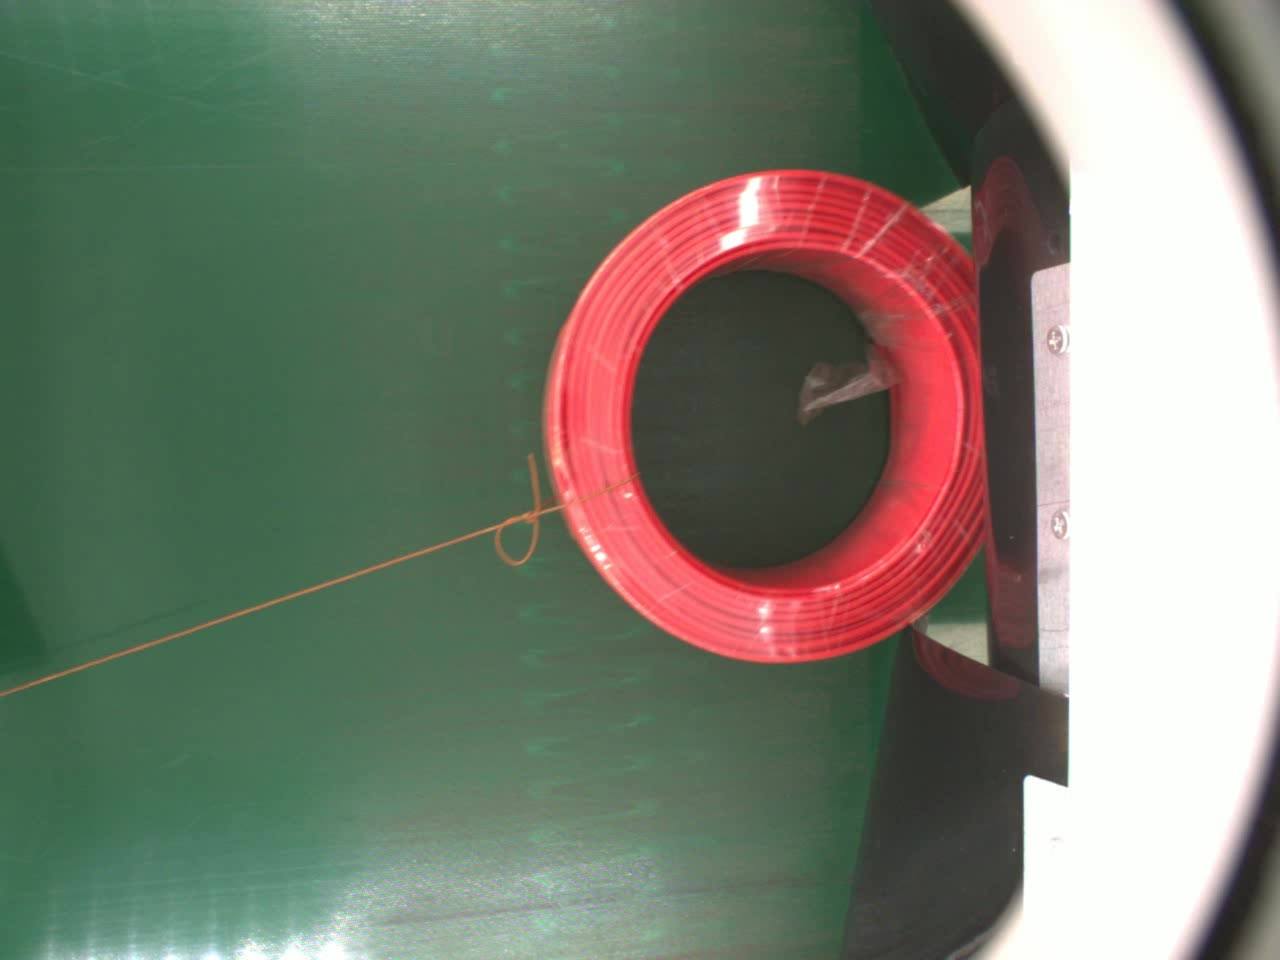red: (539, 166, 985, 662)
